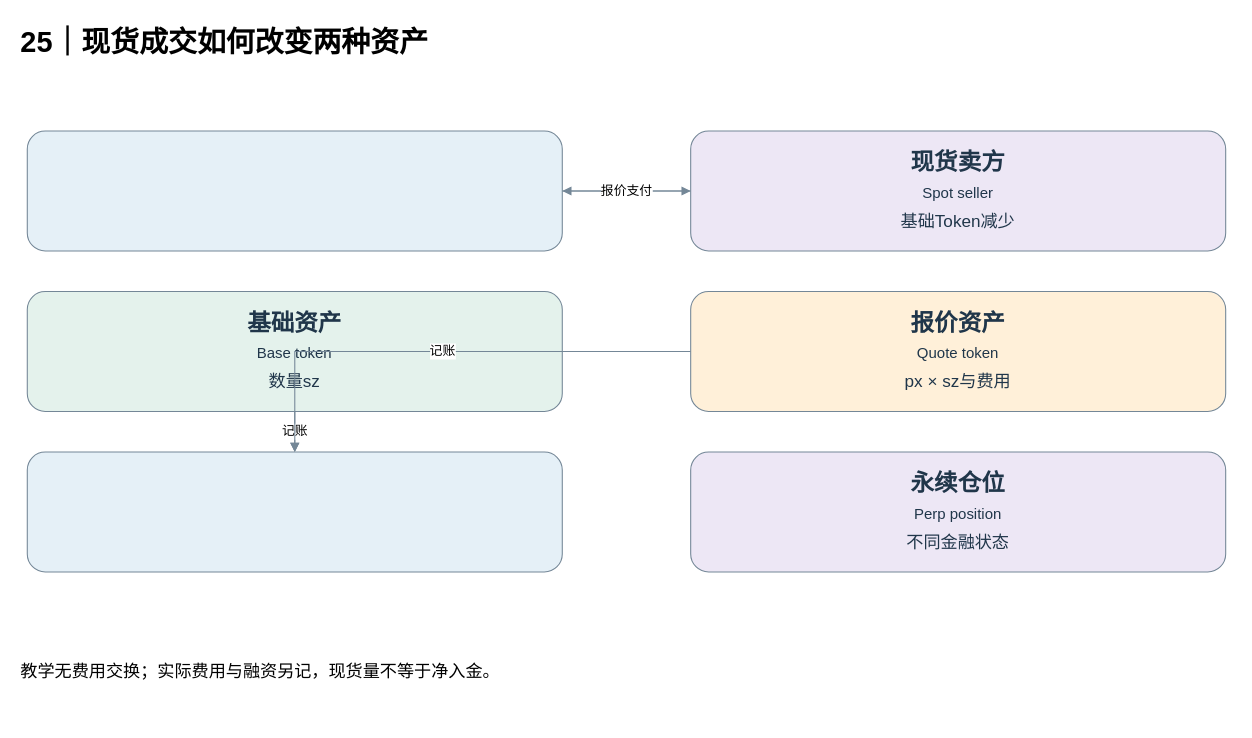
This 1252x738 diagram has some shape labels left out. The shapes that lost their labels are listed below. From the top down, each one's centre as x and y in pixels, then its label:
At (294,190): "现货买方 Spot buyer 基础Token增加".
At (294,511): "资产余额 Token balances 含占用与账户模式".
